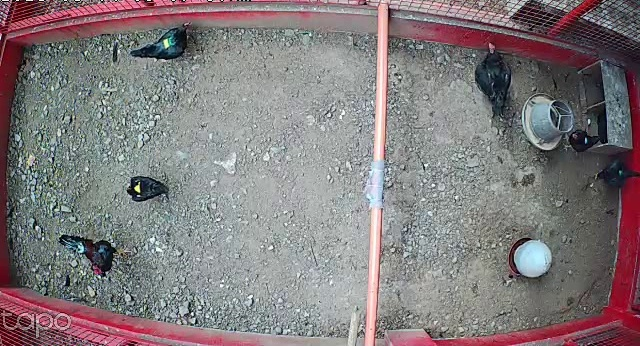Chicken: (472, 39, 515, 121), (128, 21, 198, 62), (589, 157, 640, 190), (122, 174, 173, 205), (559, 127, 599, 156)
Rooster: (56, 231, 136, 278)
Saddle_Color_Blue: (585, 136, 588, 144)
Saddle_Color_Yellow: (135, 182, 141, 192)
Saddle_Color_YellowGreen: (164, 37, 174, 48)
